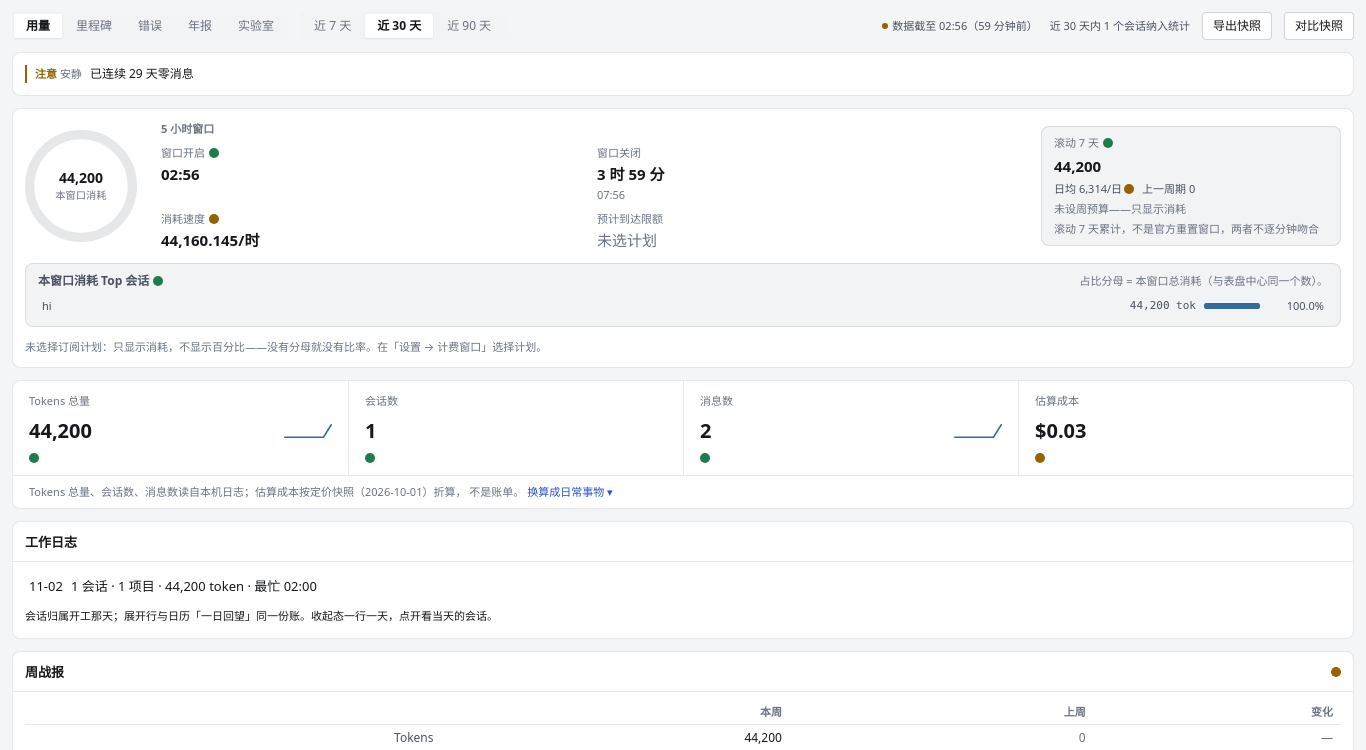
Test case: UsageOverviewPage › 里程碑档不新增 I/O：切档前后扫描次数不变（R1）
Click the tab "里程碑" at [94, 26], box [64, 14, 124, 38]
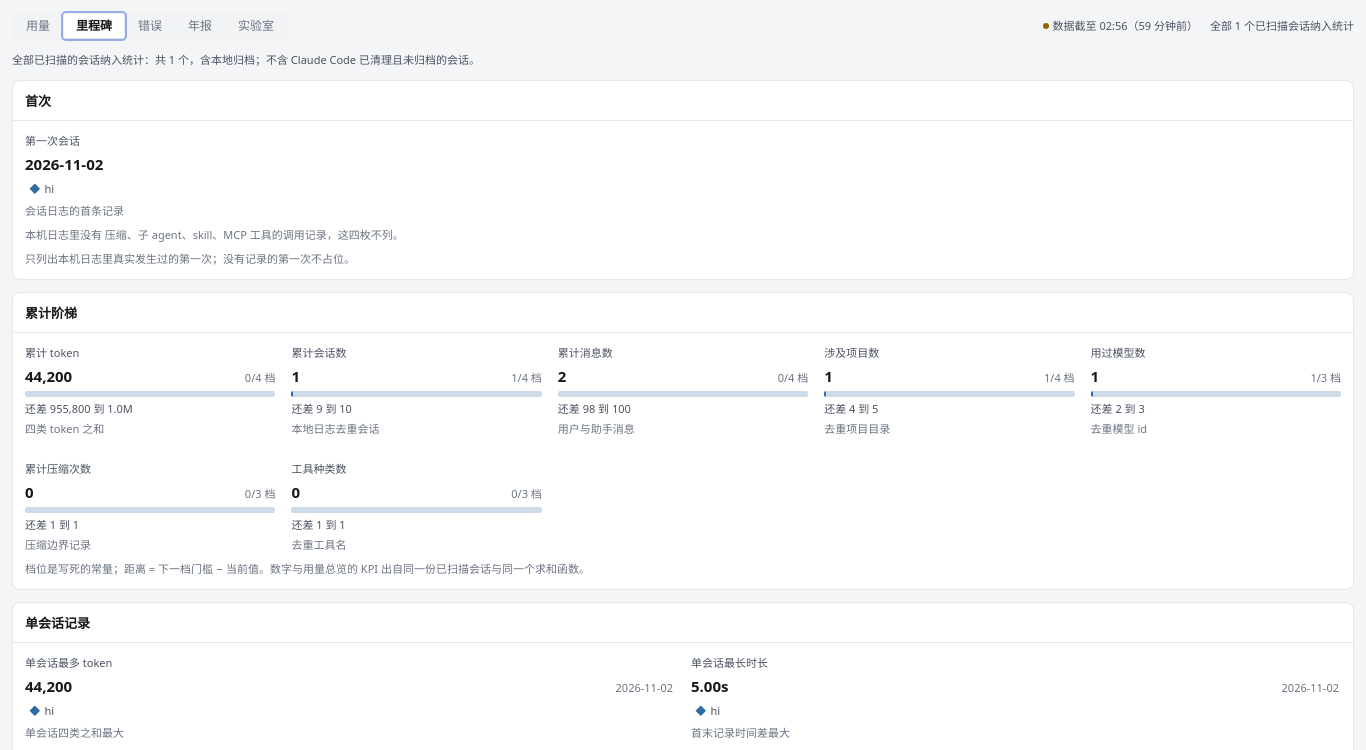
Expected: the text "全部已扫描的会话纳入统计：共 1 个，含本地归档；不含 Claude Code 已清理且未归档的会话。" is shown, [12, 52, 480, 67]
